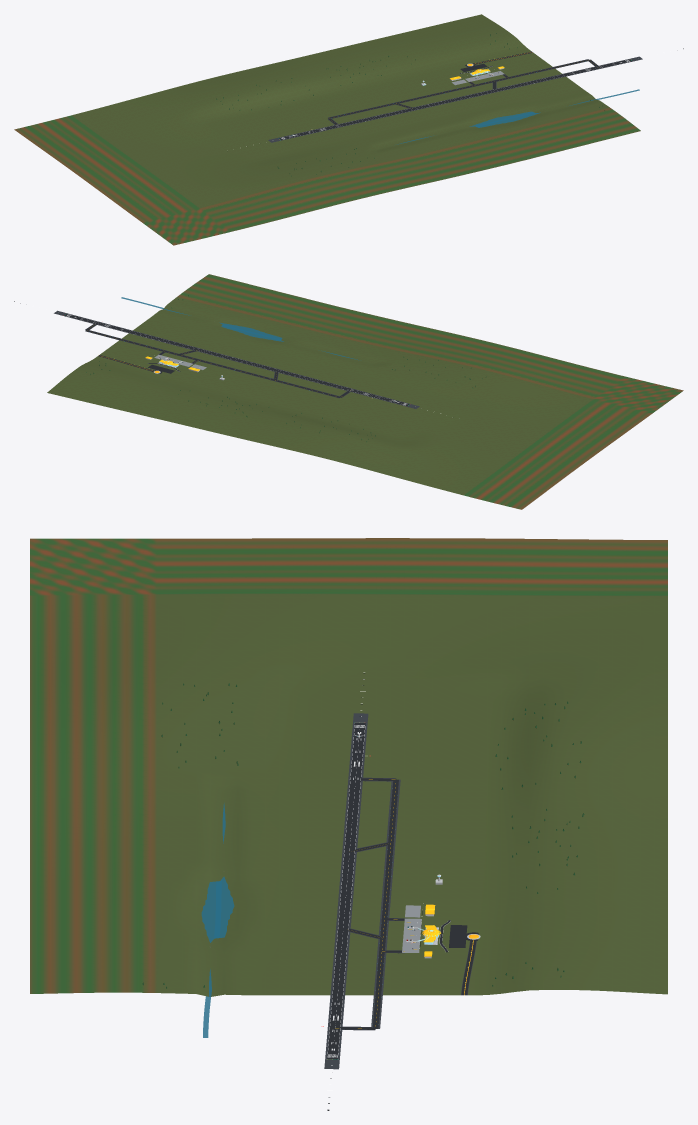
Rendered from ring3_w1_lien_khuong_airport_complex.glb.
3 renders of one model, top to bottom at view 1: azimuth 30°, elevation 25°; view 2: azimuth 150°, elevation 25°; view 3: azimuth 270°, elevation 25°, orthographic. The views are drawn at different scales.
Visible parts, largest first — view 1: Terrain_LienKhuong_Plateau, Airfield_Runway_09_27_And_Taxiways, Airfield_Shoulders_And_RESA, Water_Southern_Retention_Lake_And_Canal; view 2: Terrain_LienKhuong_Plateau, Airfield_Runway_09_27_And_Taxiways, Airfield_Shoulders_And_RESA, Water_Southern_Retention_Lake_And_Canal; view 3: Terrain_LienKhuong_Plateau, Airfield_Runway_09_27_And_Taxiways, Airfield_Shoulders_And_RESA, Water_Southern_Retention_Lake_And_Canal.
Boxes of the visible parts, <box> form: Terrain_LienKhuong_Plateau: <box>14,14,640,245</box>; Airfield_Runway_09_27_And_Taxiways: <box>278,51,632,139</box>; Airfield_Shoulders_And_RESA: <box>268,51,642,142</box>; Water_Southern_Retention_Lake_And_Canal: <box>397,89,639,144</box>; Terrain_LienKhuong_Plateau: <box>47,274,683,509</box>; Airfield_Runway_09_27_And_Taxiways: <box>64,313,409,405</box>; Airfield_Shoulders_And_RESA: <box>54,310,419,408</box>; Water_Southern_Retention_Lake_And_Canal: <box>121,297,358,360</box>; Terrain_LienKhuong_Plateau: <box>30,538,667,996</box>; Airfield_Runway_09_27_And_Taxiways: <box>327,722,478,1059</box>; Airfield_Shoulders_And_RESA: <box>324,713,476,1069</box>; Water_Southern_Retention_Lake_And_Canal: <box>201,803,234,1037</box>.
Size of the model in its own units: 5501 by 69.43 by 2600.
Materials: 25 (2 with a texture image).
